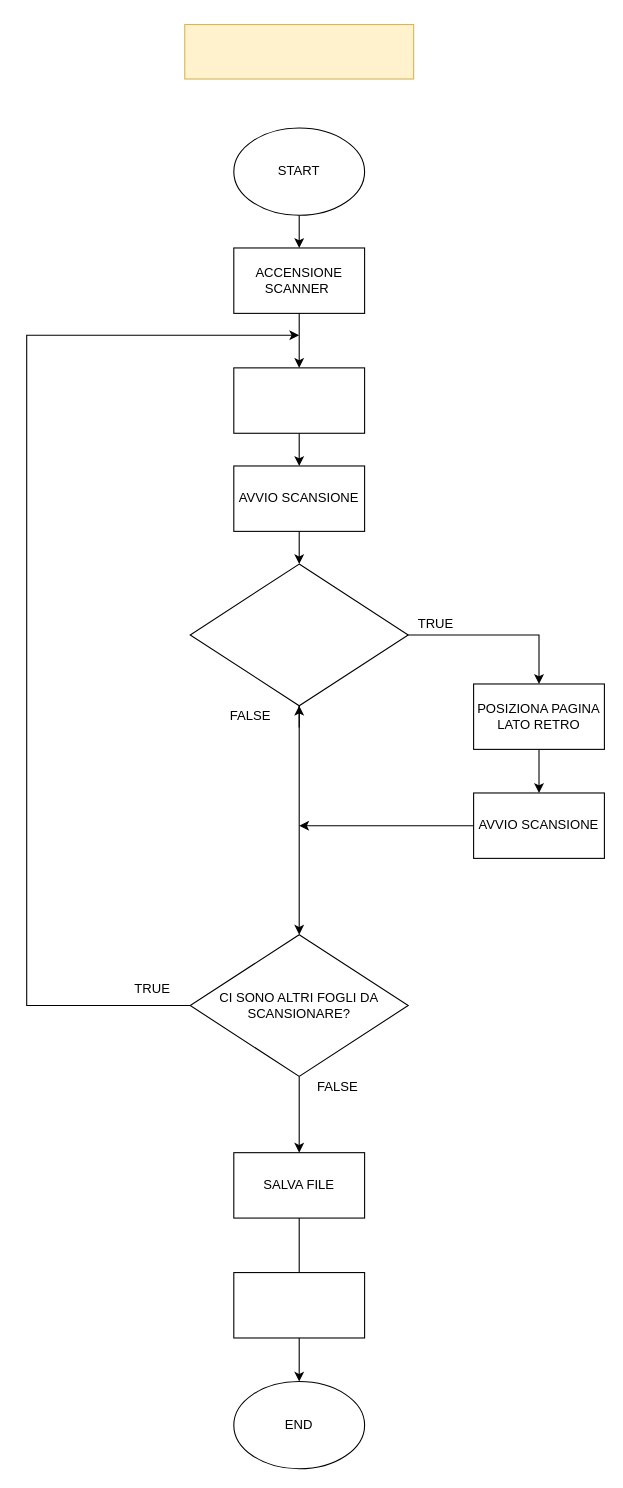
The diagram is 623 pixels wide and 1488 high, and some of its shapes have lost their labels. The shapes that lost their labels are listed below. From the top down, each one's box as (x1, y1, x2, y2) in pixels, then its label:
(184, 23, 414, 79): Esercizio Team 7
(233, 367, 365, 433): POSIZIONO PAGINA LATO FRONTE
(189, 563, 408, 706): IL FOGLIO HA UN RETRO?
(233, 1271, 365, 1338): SPEGNI SCANNER
